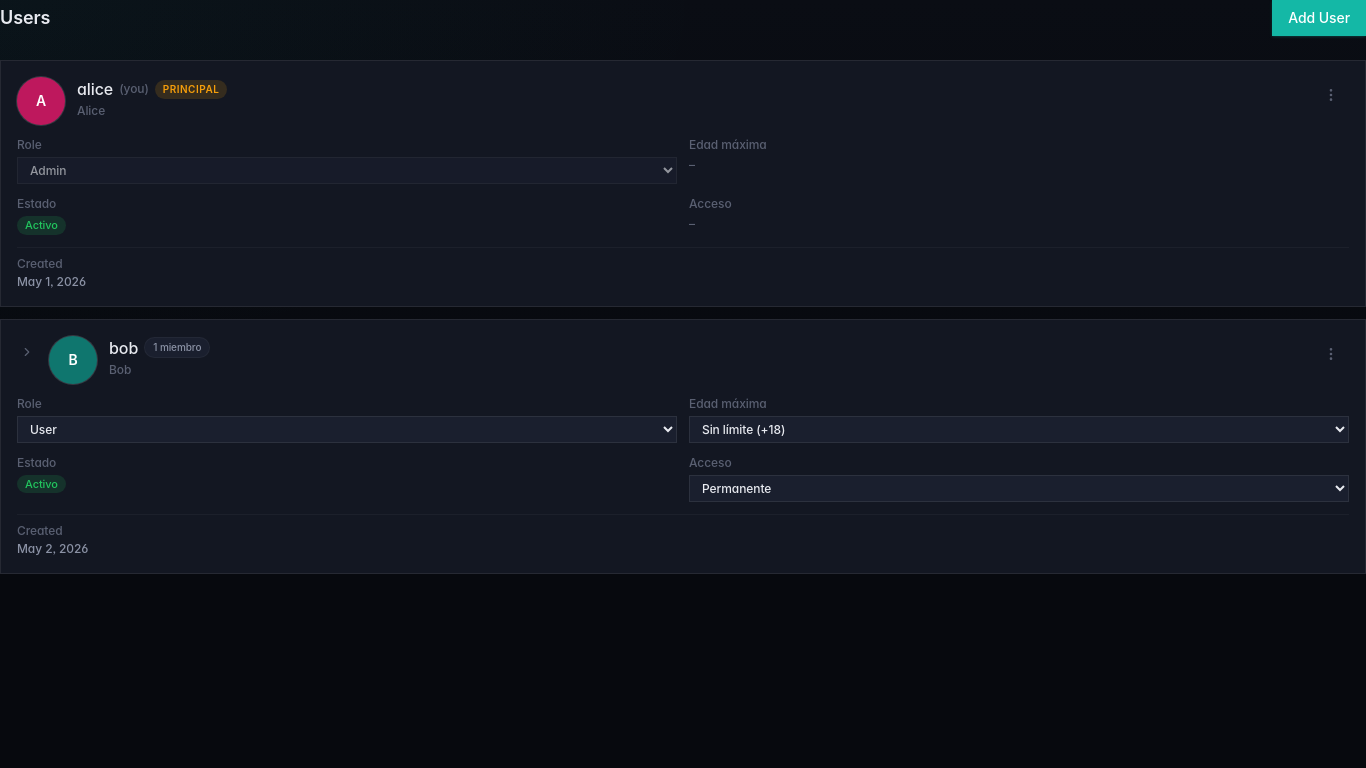
Test: UsersAdmin (mobile) › hides + Perfil and Reiniciar contraseña on profile rows
The image size is (1366, 768).
Check: the text "bob" is shown, box [109,336,138,360]
# Expand bob's profile children
Click the button named "mostrar miembros" at (27, 352), box [17,342,37,362]
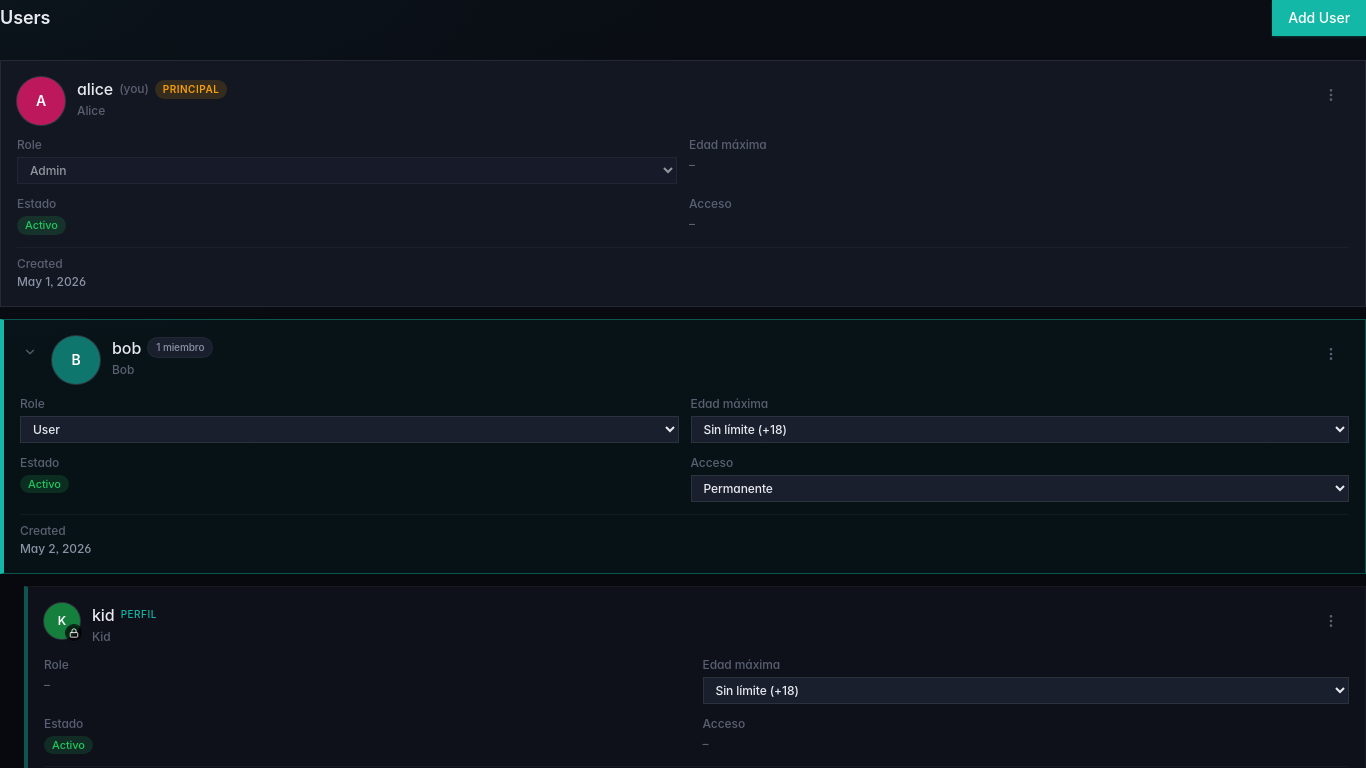
Check: the list item "kid" is shown, box [92,605,115,625]
Click the button named "Actions" in the row of "perfil" at (1331, 621), box [1313,603,1349,639]
(page scrolled)
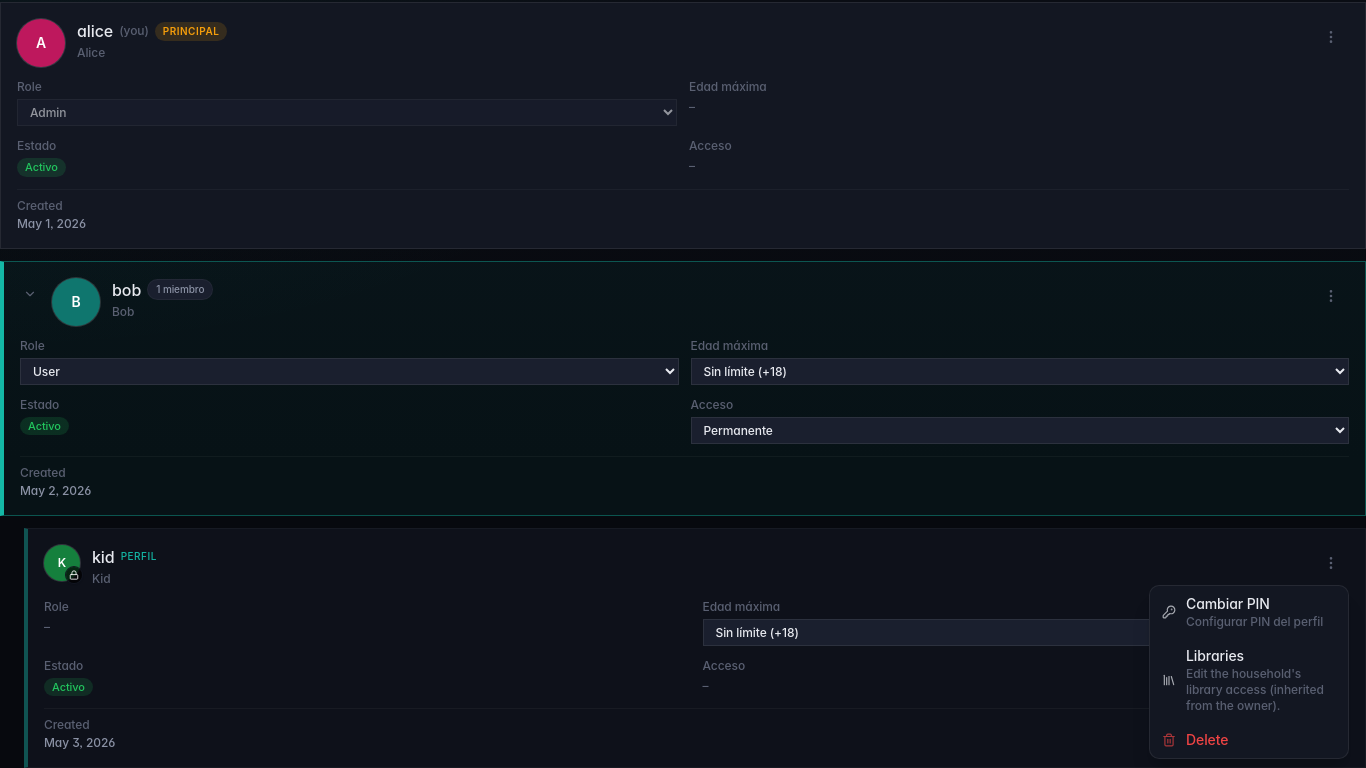
Check: the menu item "Cambiar PIN Configurar PIN del perfil" is shown, box [1150,586,1348,638]
Check: the menu item "Delete" is shown, box [1150,722,1348,758]
